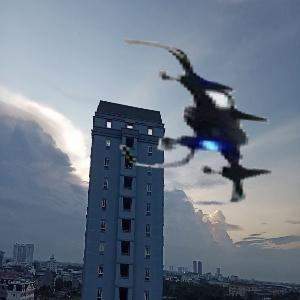drone: (116, 38, 287, 209)
